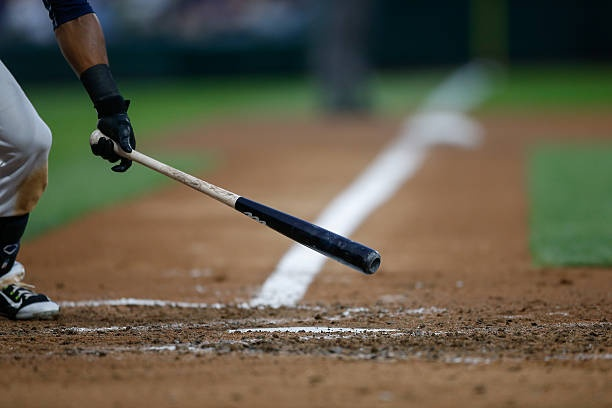bita: (90, 130, 381, 275)
